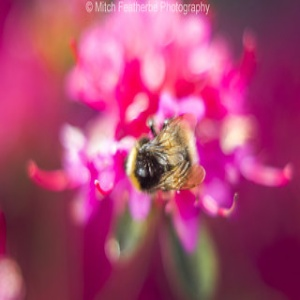bee: (122, 113, 209, 201)
